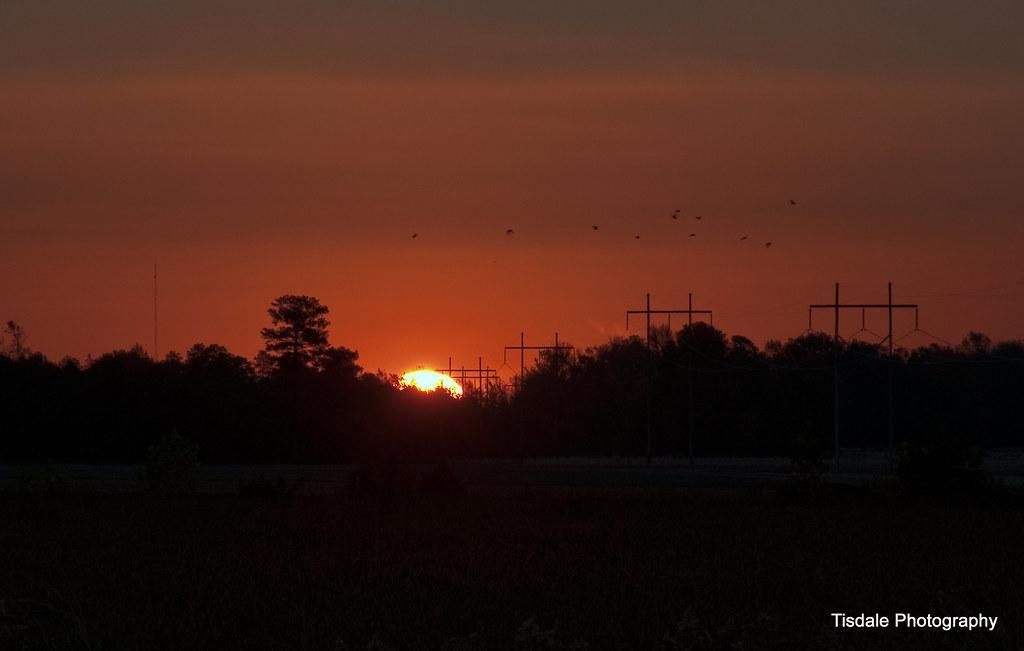power_tower: (804, 278, 922, 350), (623, 286, 715, 343), (499, 330, 580, 377), (436, 357, 500, 398)
